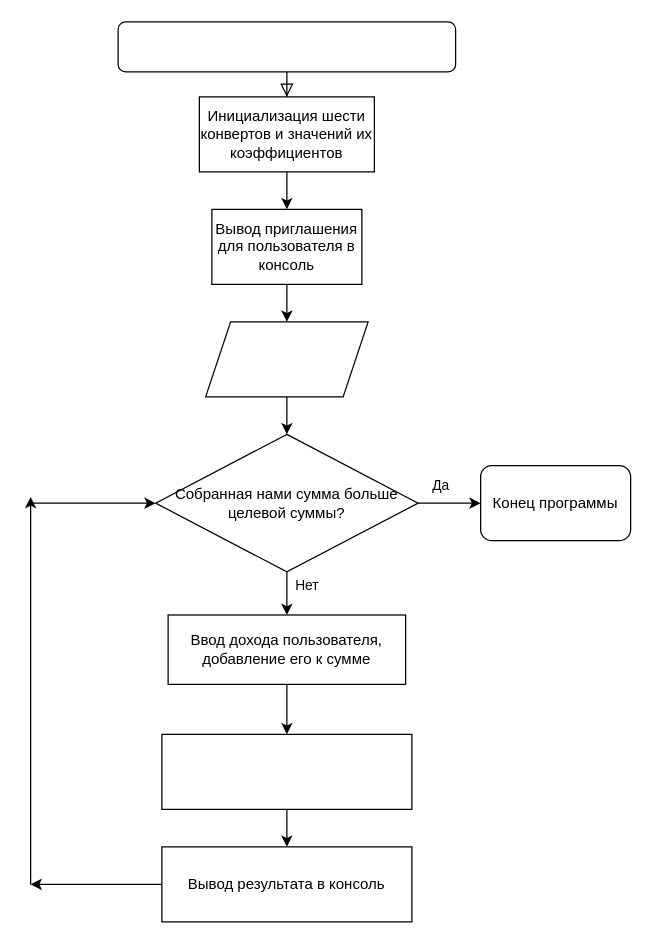
This 653x944 diagram has some shape labels left out. Here are the shapes that lost their labels. From the top down, the centre of each, then its label:
At point (286, 46): "Начало программы".
At point (286, 359): "Начало цикла".
At point (286, 771): "Распределение дохода по конвертам в соответствии с коэффициентами".
